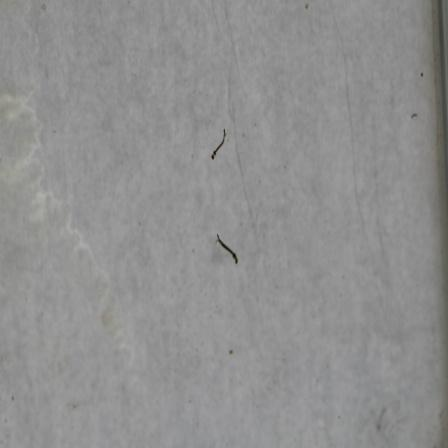Jentik-Nyamuk: (213, 232, 240, 269), (206, 124, 231, 162)
